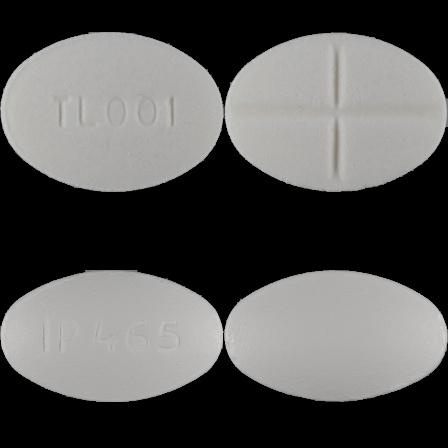68387-170: (0, 0, 224, 224)
